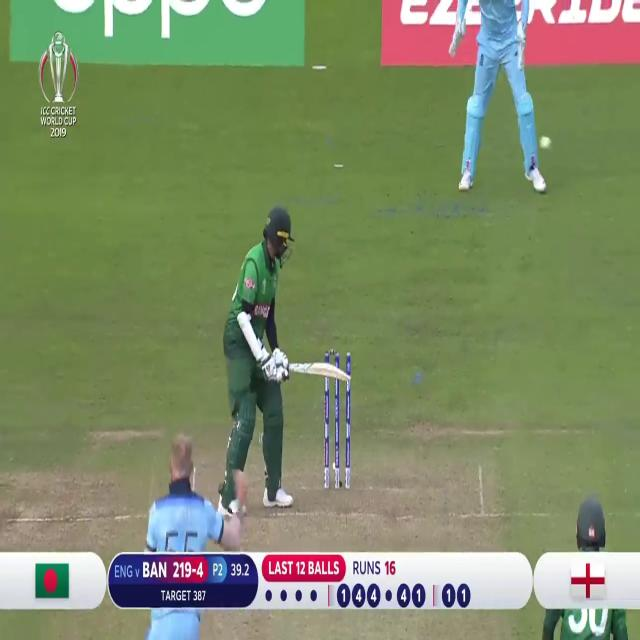ball: (539, 132, 552, 154)
